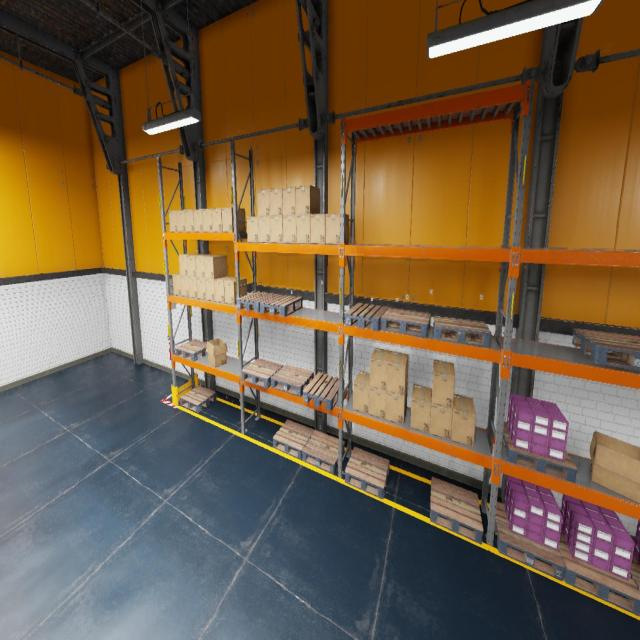box: (590, 431, 640, 504), (451, 393, 476, 448), (430, 388, 452, 439), (410, 384, 432, 433), (432, 359, 454, 408), (387, 351, 408, 395), (386, 382, 407, 425), (370, 348, 391, 390), (353, 371, 370, 414), (325, 214, 349, 244), (205, 338, 228, 367), (296, 185, 319, 214), (224, 277, 247, 304), (222, 207, 246, 232), (369, 387, 386, 420), (214, 276, 235, 302), (204, 255, 227, 278), (195, 254, 214, 278), (179, 254, 199, 276), (310, 214, 325, 243), (187, 254, 206, 276), (296, 214, 310, 243), (282, 186, 296, 215), (283, 215, 296, 243), (257, 188, 270, 216), (270, 187, 282, 216), (270, 216, 283, 242), (258, 216, 270, 242), (247, 216, 258, 242), (211, 207, 222, 232), (202, 208, 212, 232), (193, 208, 203, 232), (205, 279, 215, 301), (196, 278, 206, 300), (185, 209, 194, 232), (180, 275, 189, 297), (172, 273, 181, 295), (177, 210, 186, 232), (188, 277, 197, 298), (169, 210, 177, 232)
pallets: (558, 530, 640, 616), (494, 501, 565, 581), (502, 422, 578, 482), (430, 476, 483, 544), (572, 328, 640, 370), (345, 447, 389, 499), (433, 316, 491, 348), (302, 430, 344, 474), (272, 420, 314, 459), (303, 372, 344, 411), (380, 308, 430, 338), (271, 364, 314, 396), (241, 359, 283, 388), (345, 303, 388, 331), (180, 385, 216, 413), (260, 295, 302, 317), (236, 292, 278, 312), (175, 339, 207, 361), (630, 555, 640, 590)
